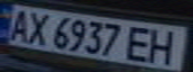3: (84, 19, 106, 56)
6: (48, 15, 72, 49)
7: (100, 20, 127, 57)
9: (66, 17, 87, 53)
A: (3, 7, 33, 43)
E: (124, 25, 157, 63)
H: (142, 27, 187, 66)
X: (21, 9, 54, 46)
